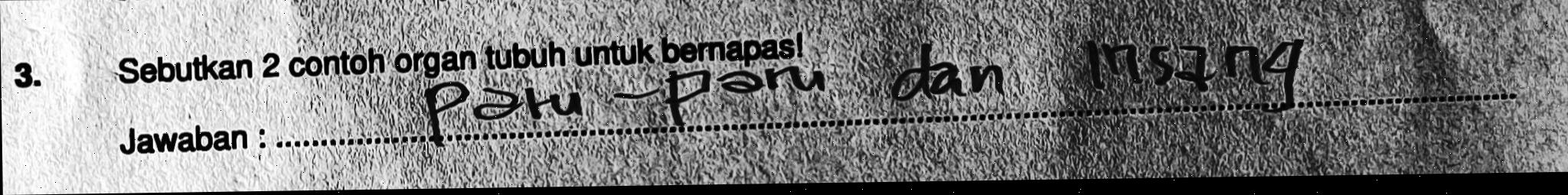jawaban: (1084, 36, 1311, 108), (664, 61, 832, 127), (421, 73, 587, 138), (889, 42, 1008, 102)
